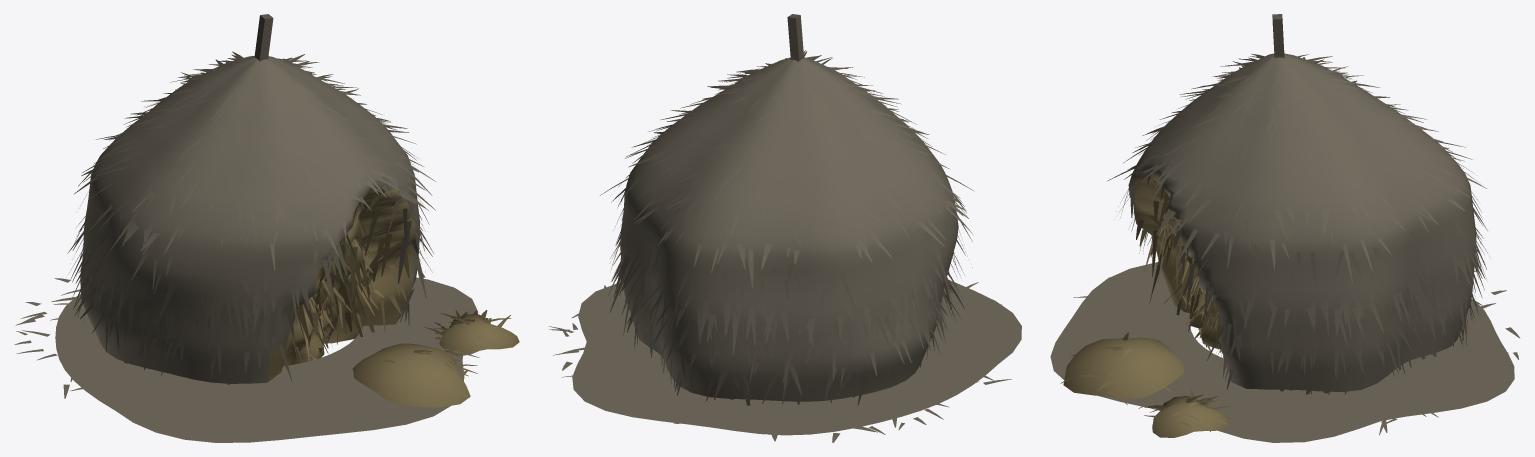
The model's file is lees_place_haystack_1812_d__lees_place_1812.glb.
3 renders of one model, left to right at view 1: azimuth 30°, elevation 25°; view 2: azimuth 150°, elevation 25°; view 3: azimuth 270°, elevation 25°, orthographic.
Parts seen in each view (by area): view 1: lees_place_haystack_1812_d__lees_place_1812; view 2: lees_place_haystack_1812_d__lees_place_1812; view 3: lees_place_haystack_1812_d__lees_place_1812.
Boxes of the visible parts, left/top/right/bottom form: lees_place_haystack_1812_d__lees_place_1812: left=14, top=14, right=519, bottom=442; lees_place_haystack_1812_d__lees_place_1812: left=548, top=14, right=1021, bottom=442; lees_place_haystack_1812_d__lees_place_1812: left=1050, top=14, right=1519, bottom=442.
Size of the model in its own units: 4.99 by 3.98 by 4.94.
